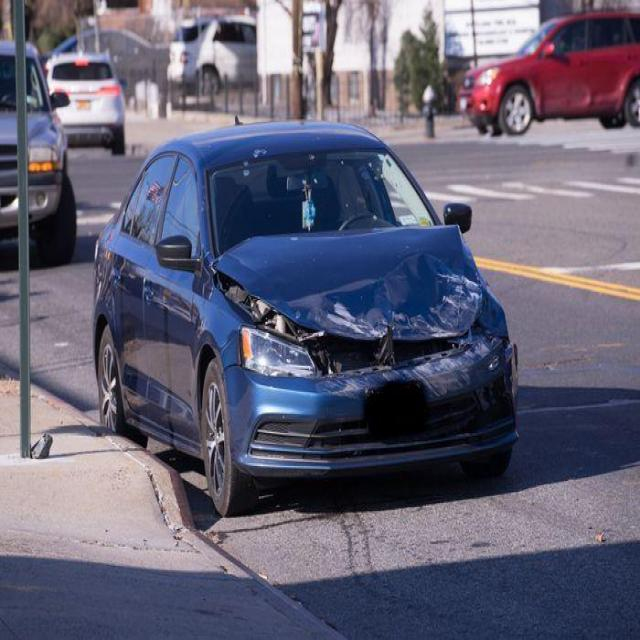damaged: (289, 252, 484, 400)
